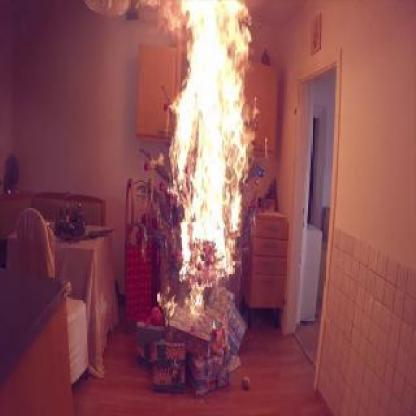Fire: (160, 0, 262, 320)
